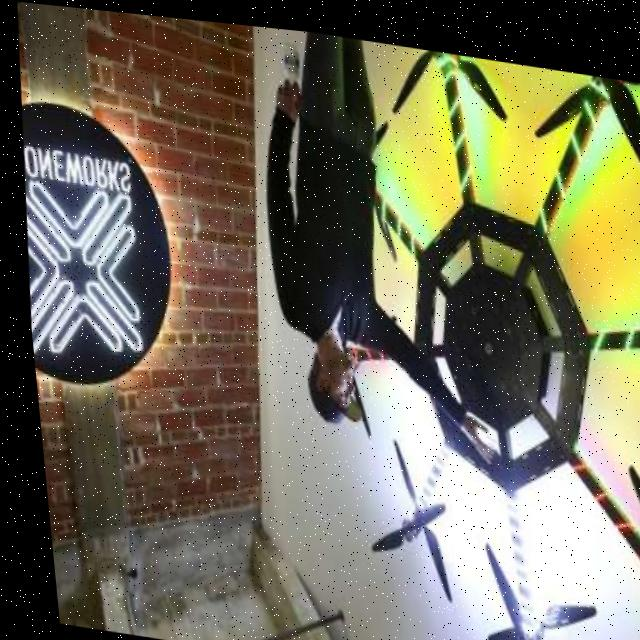drones: (241, 20, 640, 640)
